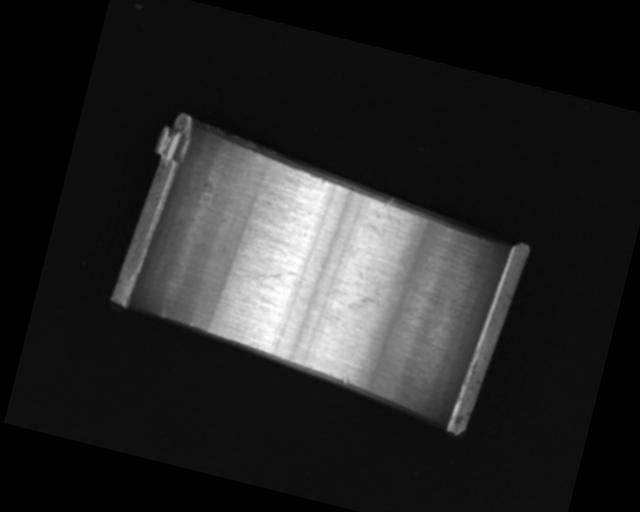blot: (345, 267, 407, 322)
bruise: (341, 375, 352, 385)
nick: (159, 304, 168, 319)
